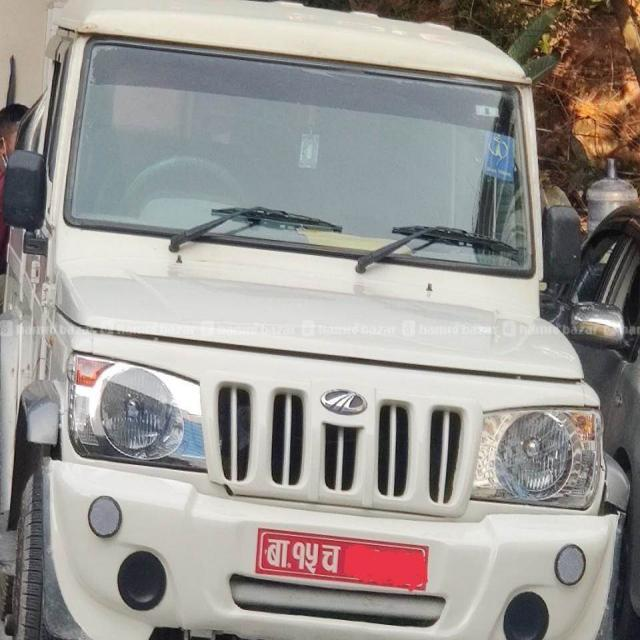License-plate: (255, 516, 441, 602)
